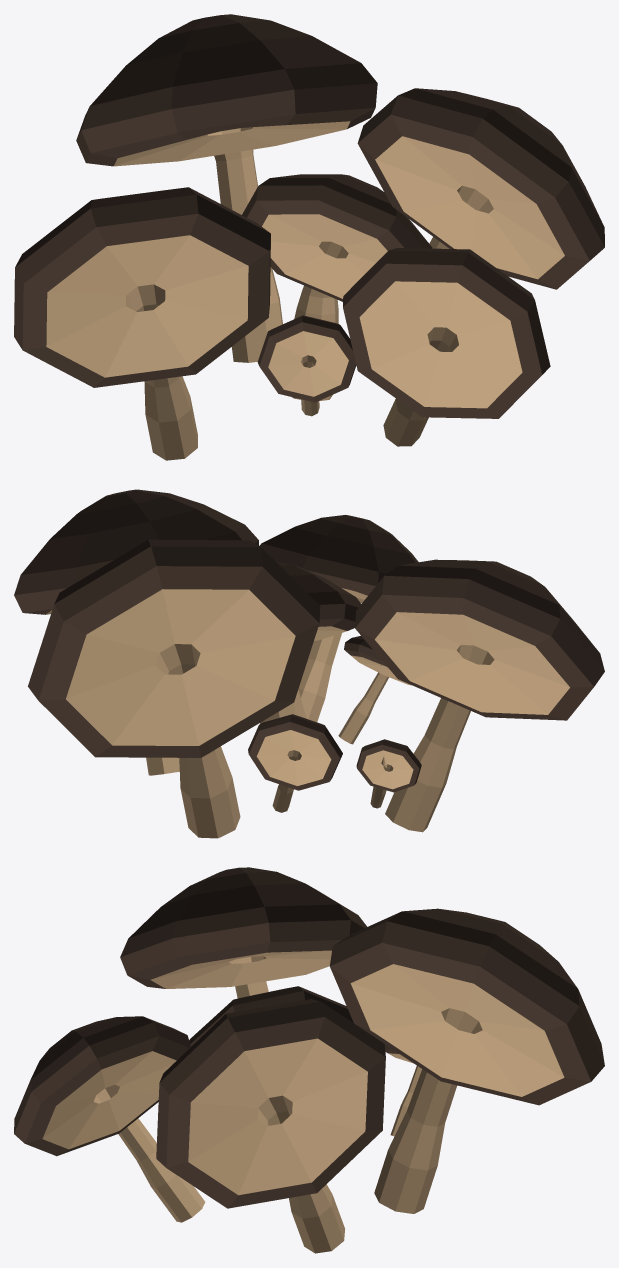
File: mushroom_brown.glb
The picture shows the model from 3 angles, top to bottom: view 1: azimuth 30°, elevation 25°; view 2: azimuth 150°, elevation 25°; view 3: azimuth 270°, elevation 25°; orthographic projection. The views are drawn at different scales.
Visible parts, largest first — view 1: Circle.006; view 2: Circle.006; view 3: Circle.006.
Boxes of the visible parts, x1,y1,x2,y2 form: Circle.006: (14, 14, 604, 460); Circle.006: (14, 489, 604, 838); Circle.006: (14, 867, 604, 1253).
Bounding box in the file's own units: 2.06 × 1.09 × 1.99.
